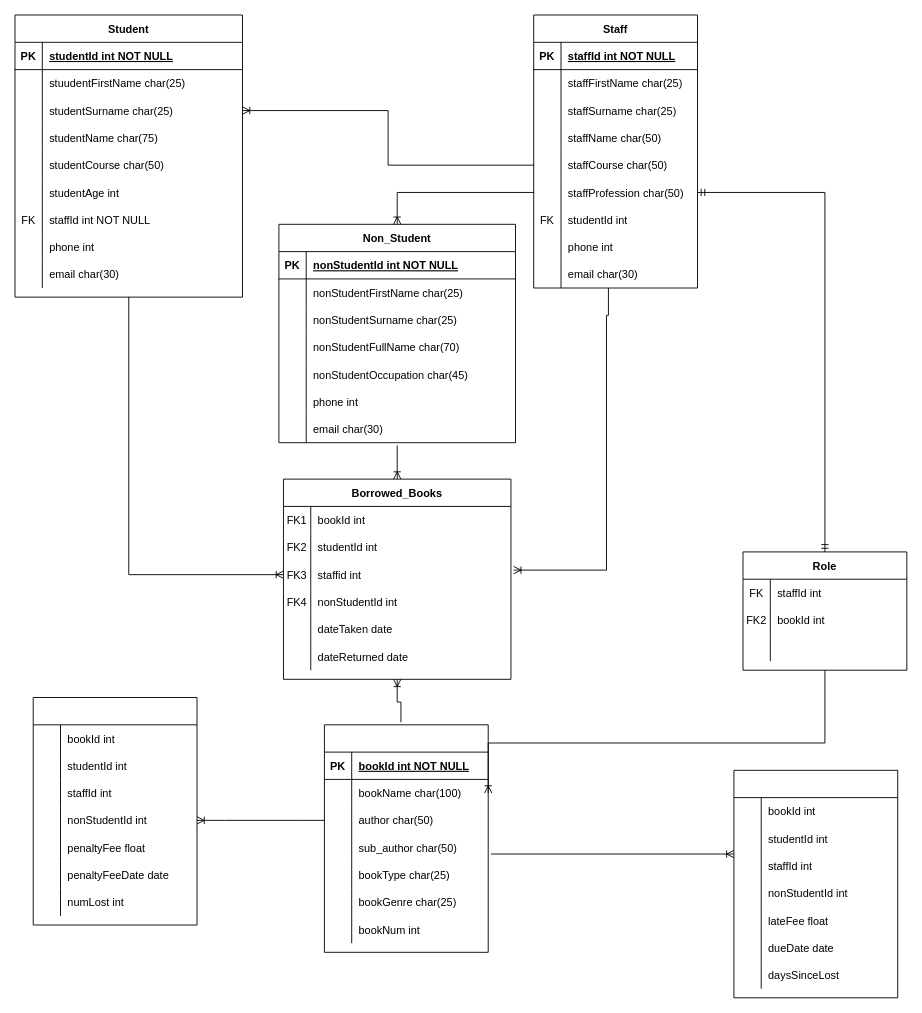
The diagram is 922 pixels wide and 1013 high, and some of its shapes have lost their labels. Each missing label, with the box of its shape:
Books: (324, 724, 488, 952)
Late_Books: (733, 769, 898, 998)
Lost_Books: (32, 697, 197, 925)
